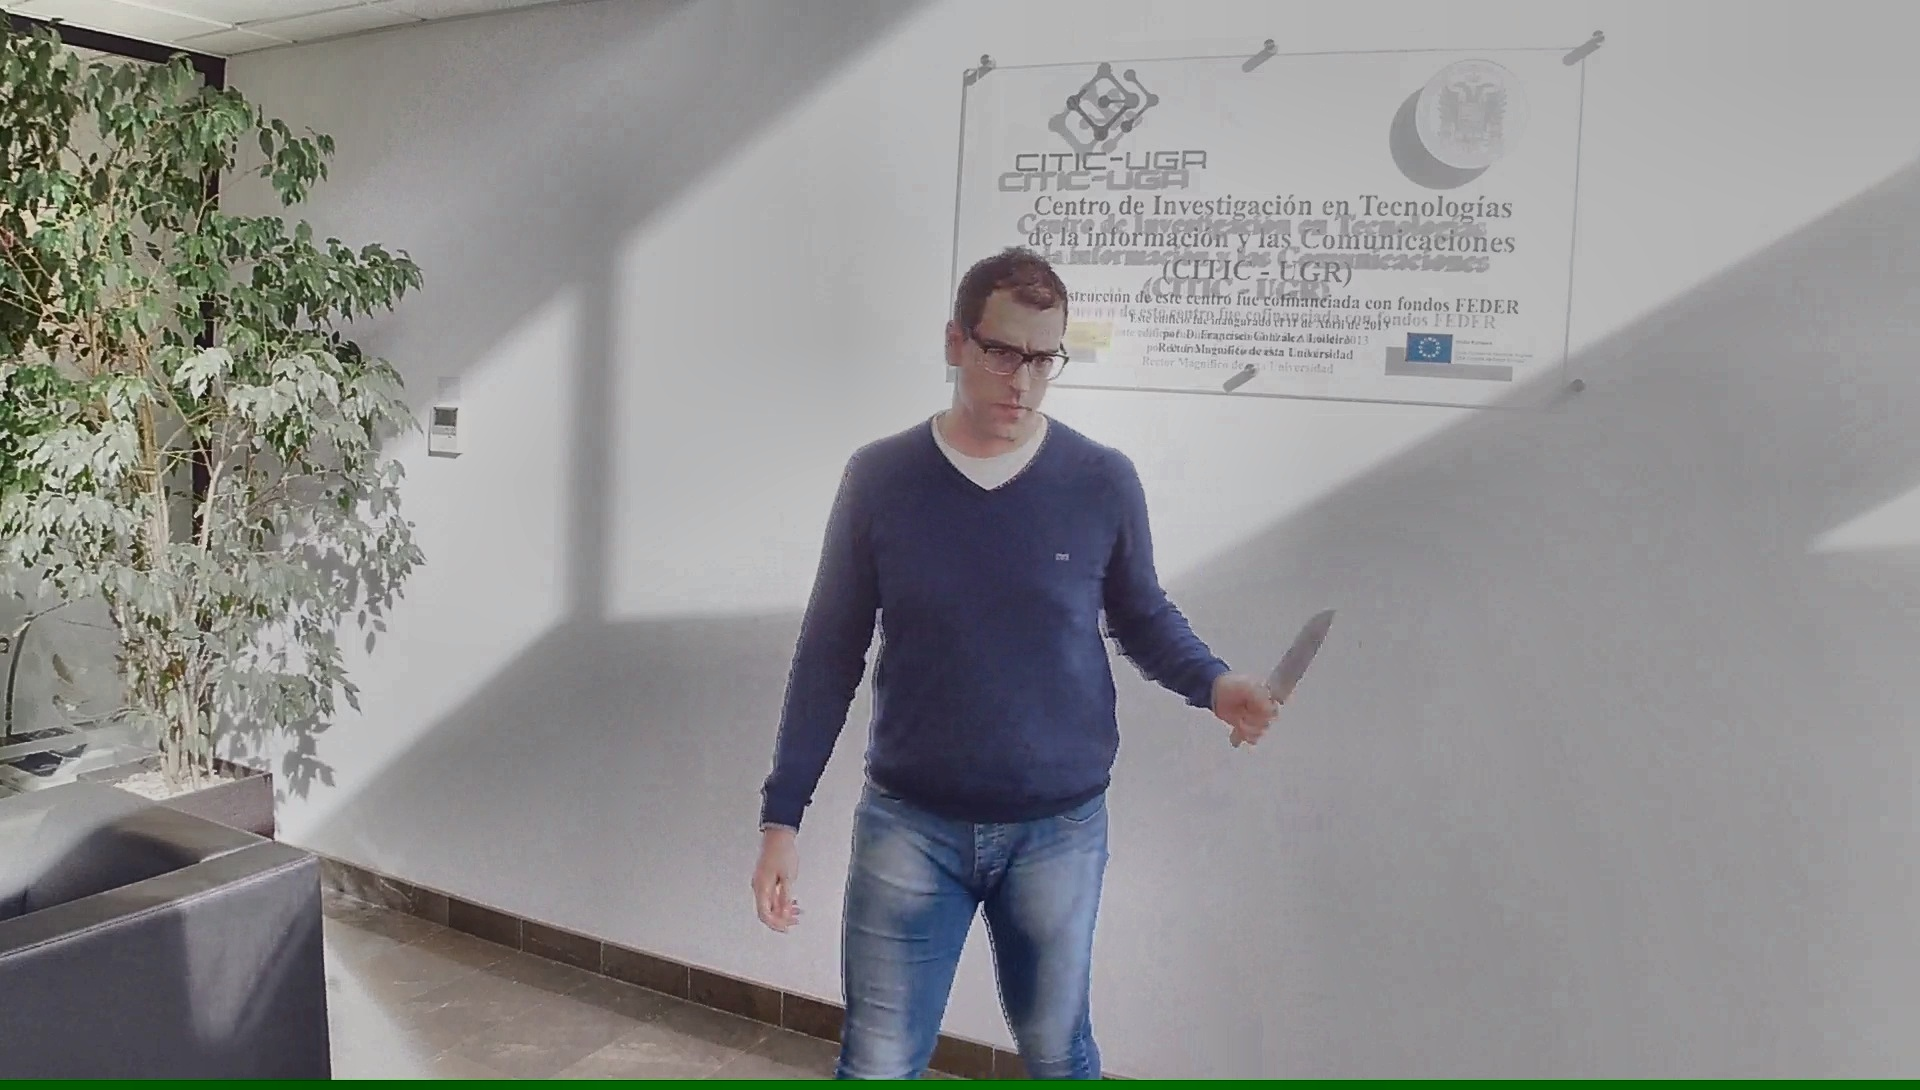knife: (1226, 602, 1344, 753)
